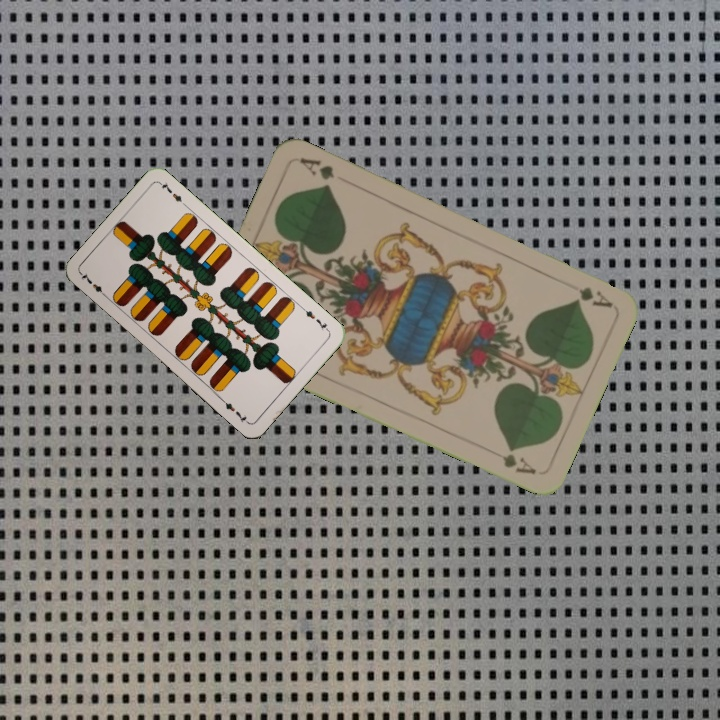E7: (298, 303, 332, 334), (77, 269, 110, 300)
GA: (574, 282, 615, 311)
